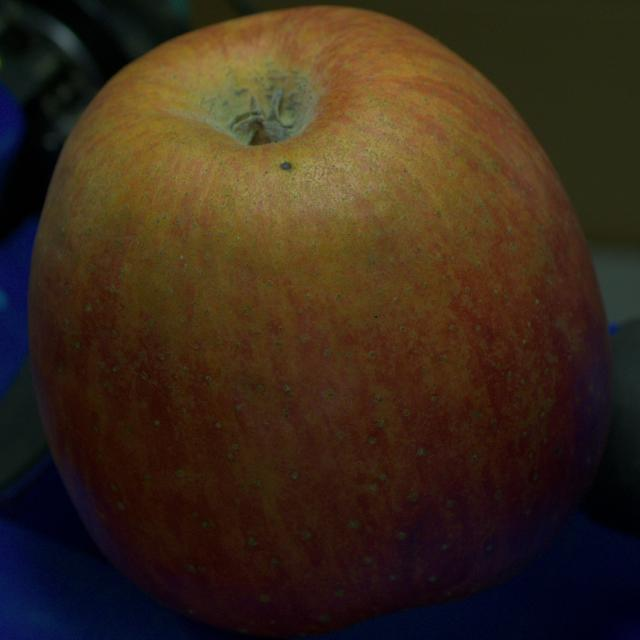apple: (28, 6, 611, 636)
pest: (281, 162, 291, 169)
